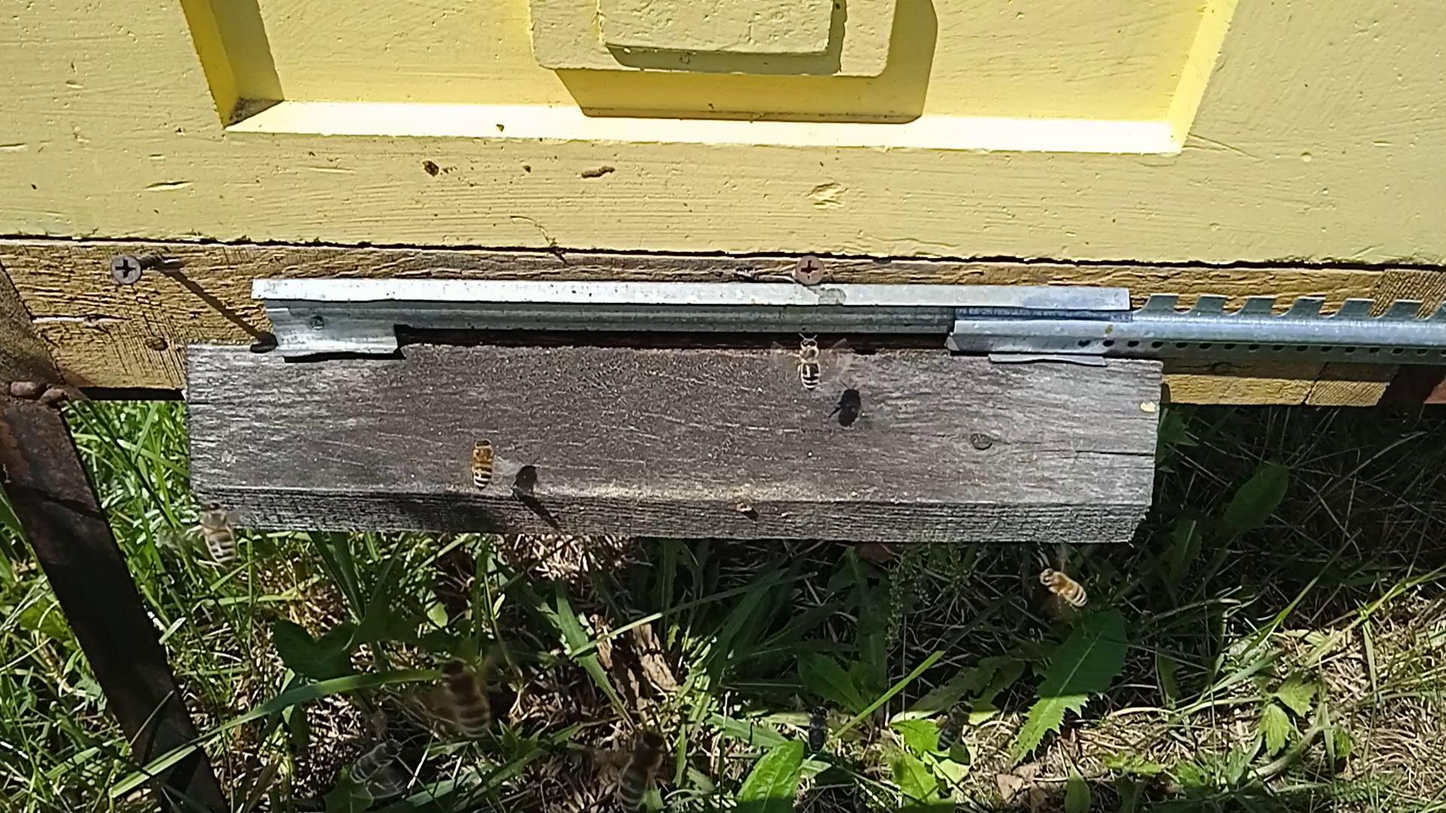worker-bee: (439, 658, 491, 740), (616, 731, 665, 811), (197, 498, 237, 567), (348, 737, 406, 784), (1039, 568, 1088, 607), (937, 702, 973, 752), (795, 335, 825, 393), (469, 436, 498, 490)
